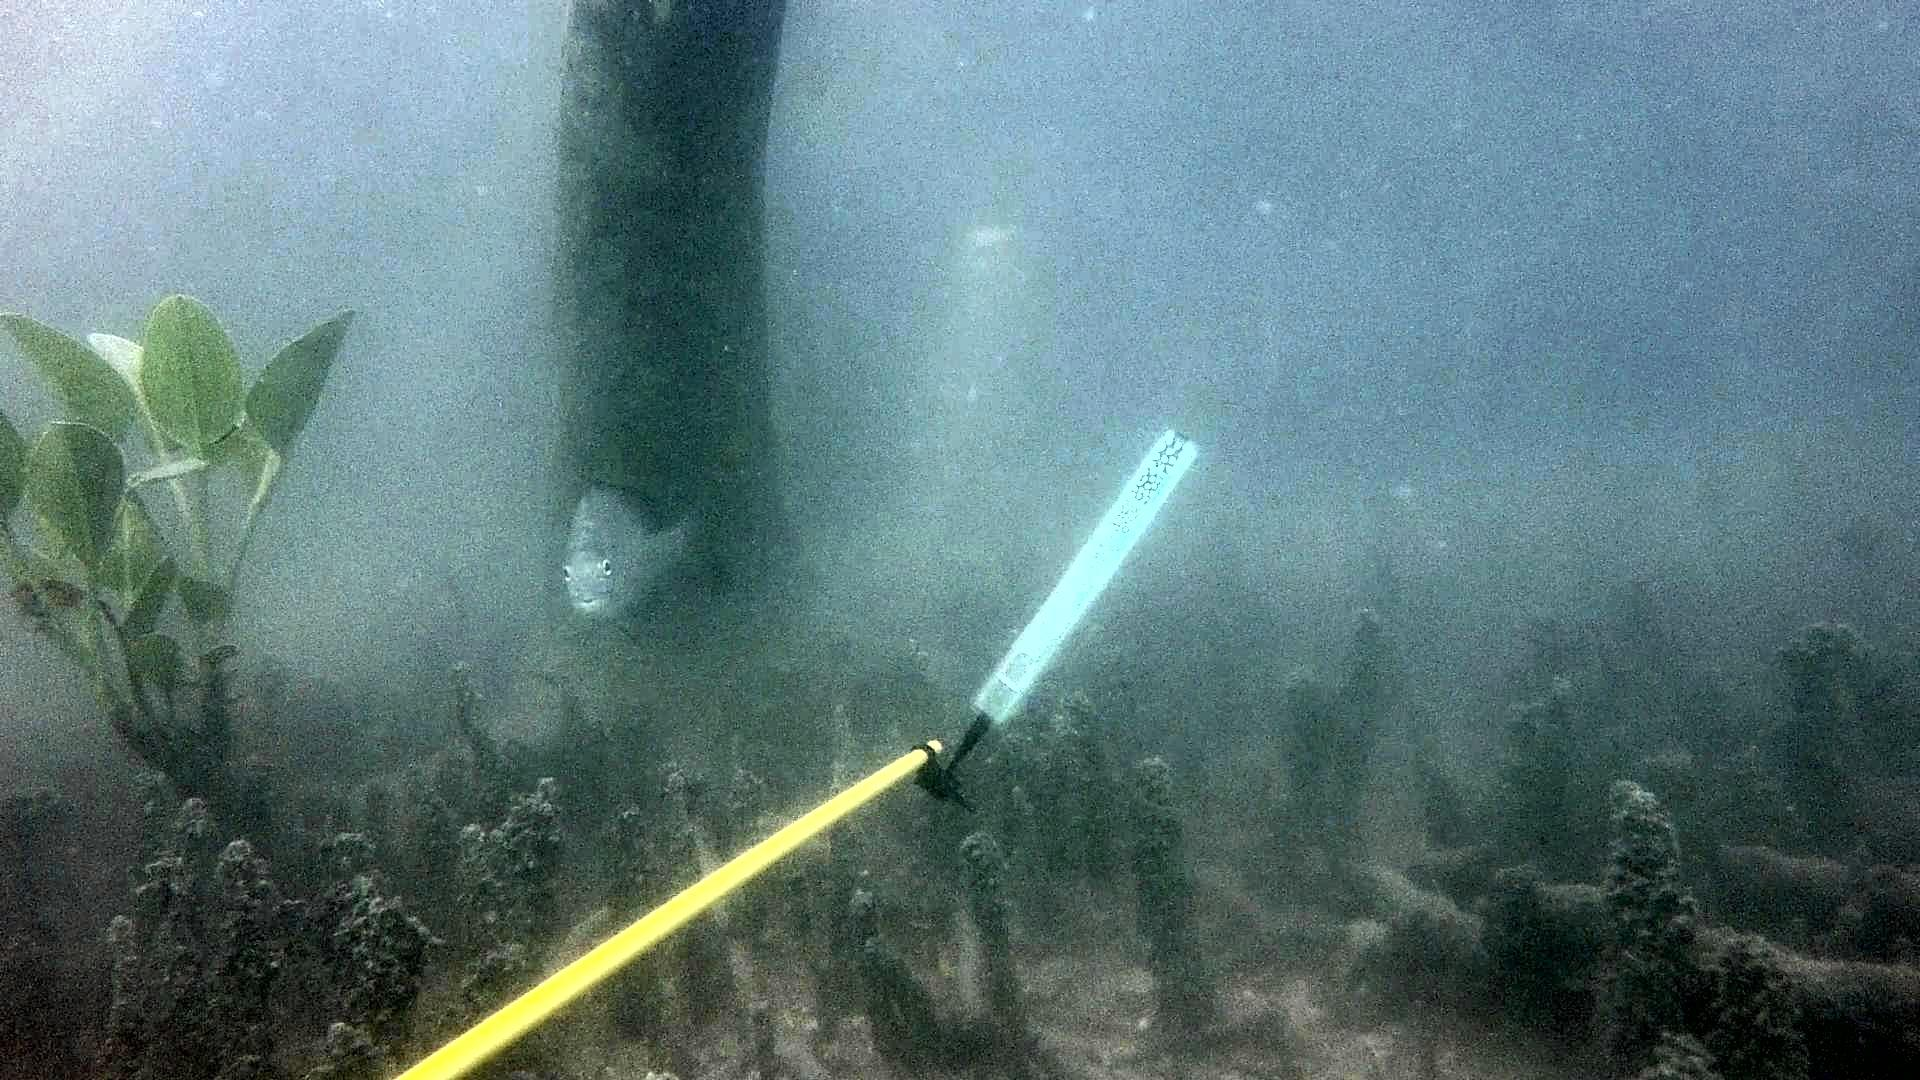acanthopagrus palmaris: (556, 455, 745, 633)
